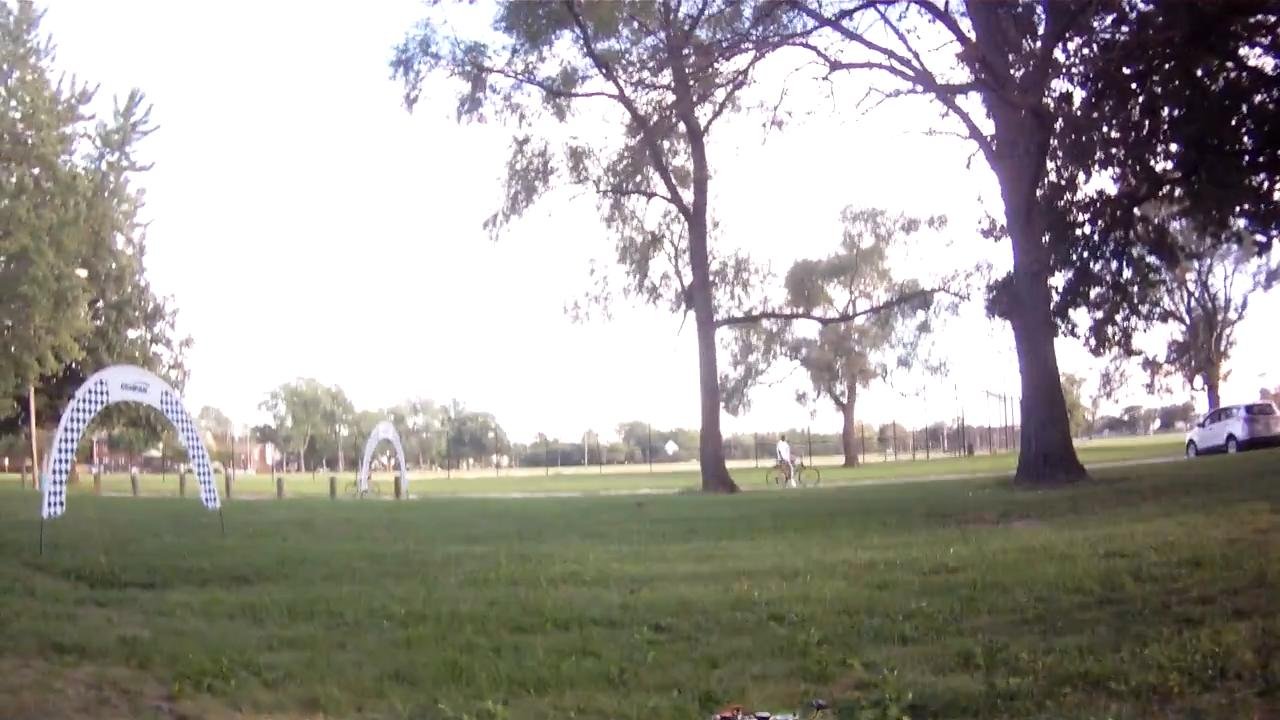gate: (32, 362, 221, 520)
